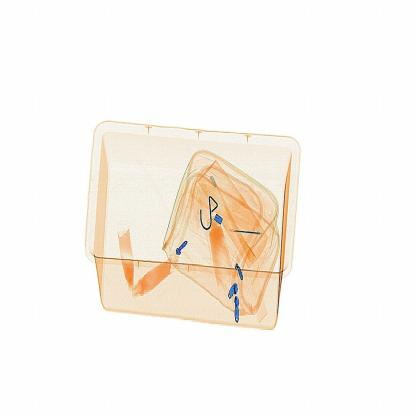wrench: (227, 224, 268, 242)
